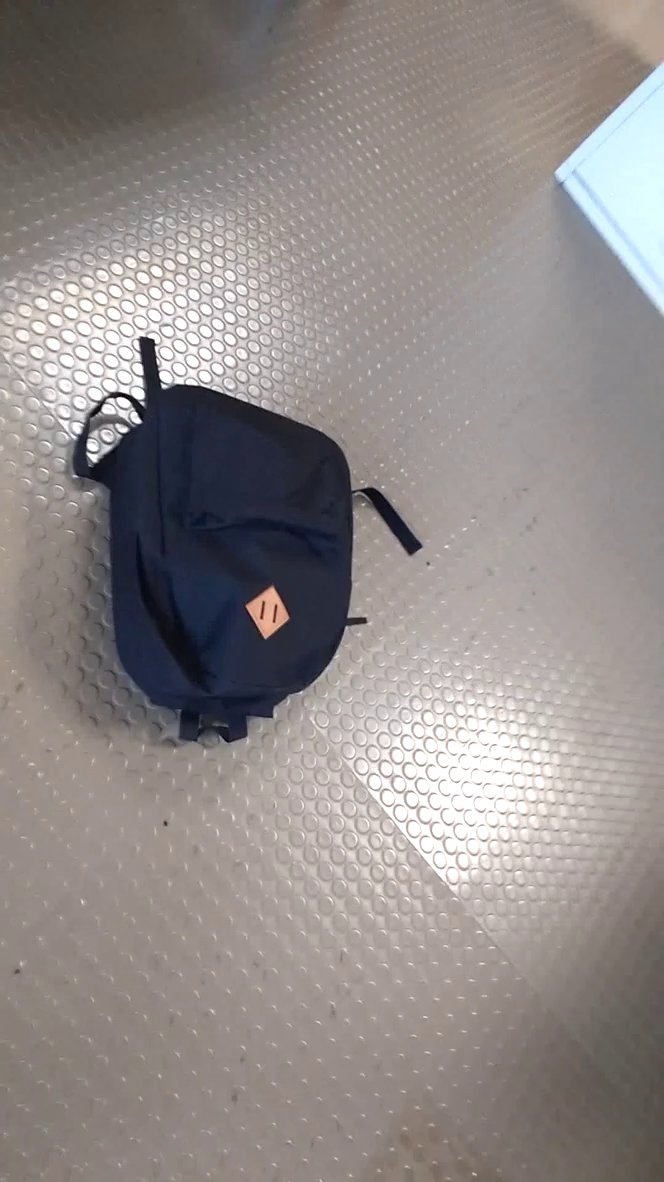bag: (68, 326, 442, 752)
